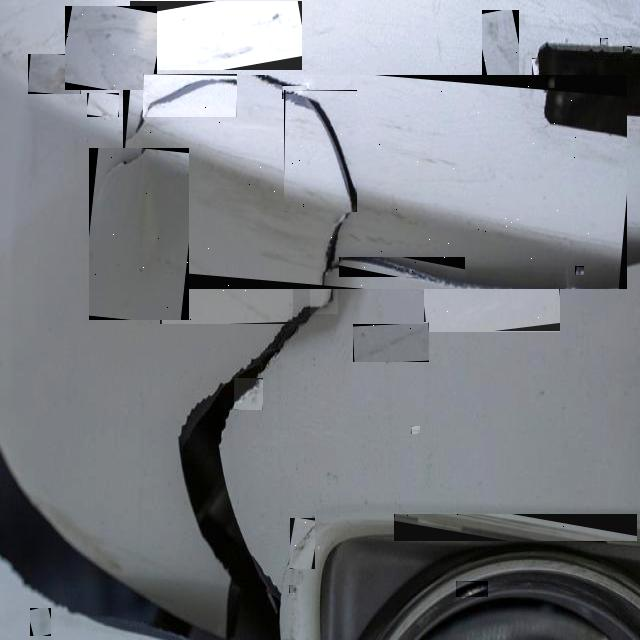Dent: (123, 75, 627, 289), (89, 148, 189, 320), (130, 1, 302, 70), (160, 242, 293, 324), (284, 90, 357, 212), (424, 274, 560, 334), (65, 6, 157, 90), (394, 514, 637, 541), (143, 74, 237, 117), (353, 324, 429, 362), (482, 10, 519, 87), (339, 257, 465, 277), (28, 54, 81, 94), (124, 102, 156, 159), (266, 250, 327, 274), (95, 150, 127, 195), (310, 265, 338, 314), (332, 206, 355, 262), (290, 518, 315, 569), (234, 378, 263, 410), (87, 93, 119, 117), (253, 18, 290, 37), (207, 46, 253, 60), (30, 608, 51, 636), (456, 581, 488, 597), (416, 148, 456, 160), (566, 242, 579, 274), (282, 85, 307, 99), (350, 232, 368, 243), (532, 58, 539, 79), (546, 75, 555, 88), (575, 266, 584, 275), (112, 156, 120, 166), (411, 426, 420, 434), (272, 20, 280, 28), (600, 38, 608, 46), (536, 102, 544, 110), (623, 46, 632, 53), (289, 585, 296, 593)
